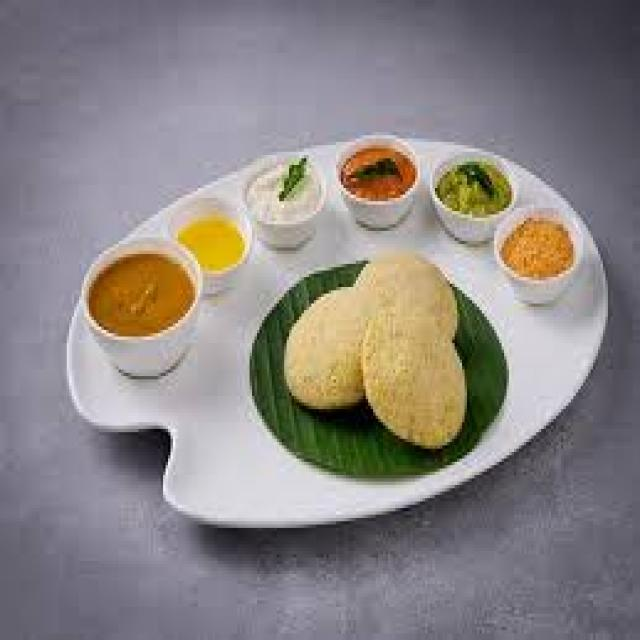IDLI: (365, 307, 466, 449), (281, 284, 375, 410), (360, 250, 457, 340)
